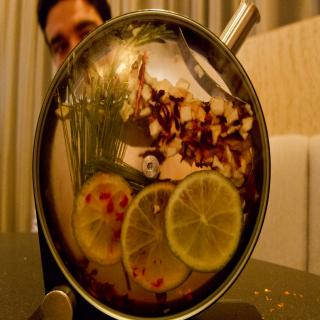Lemon: (120, 178, 194, 292), (164, 168, 243, 274), (71, 170, 133, 266)
Orange: (166, 169, 243, 273), (120, 182, 190, 293), (71, 172, 133, 266)
